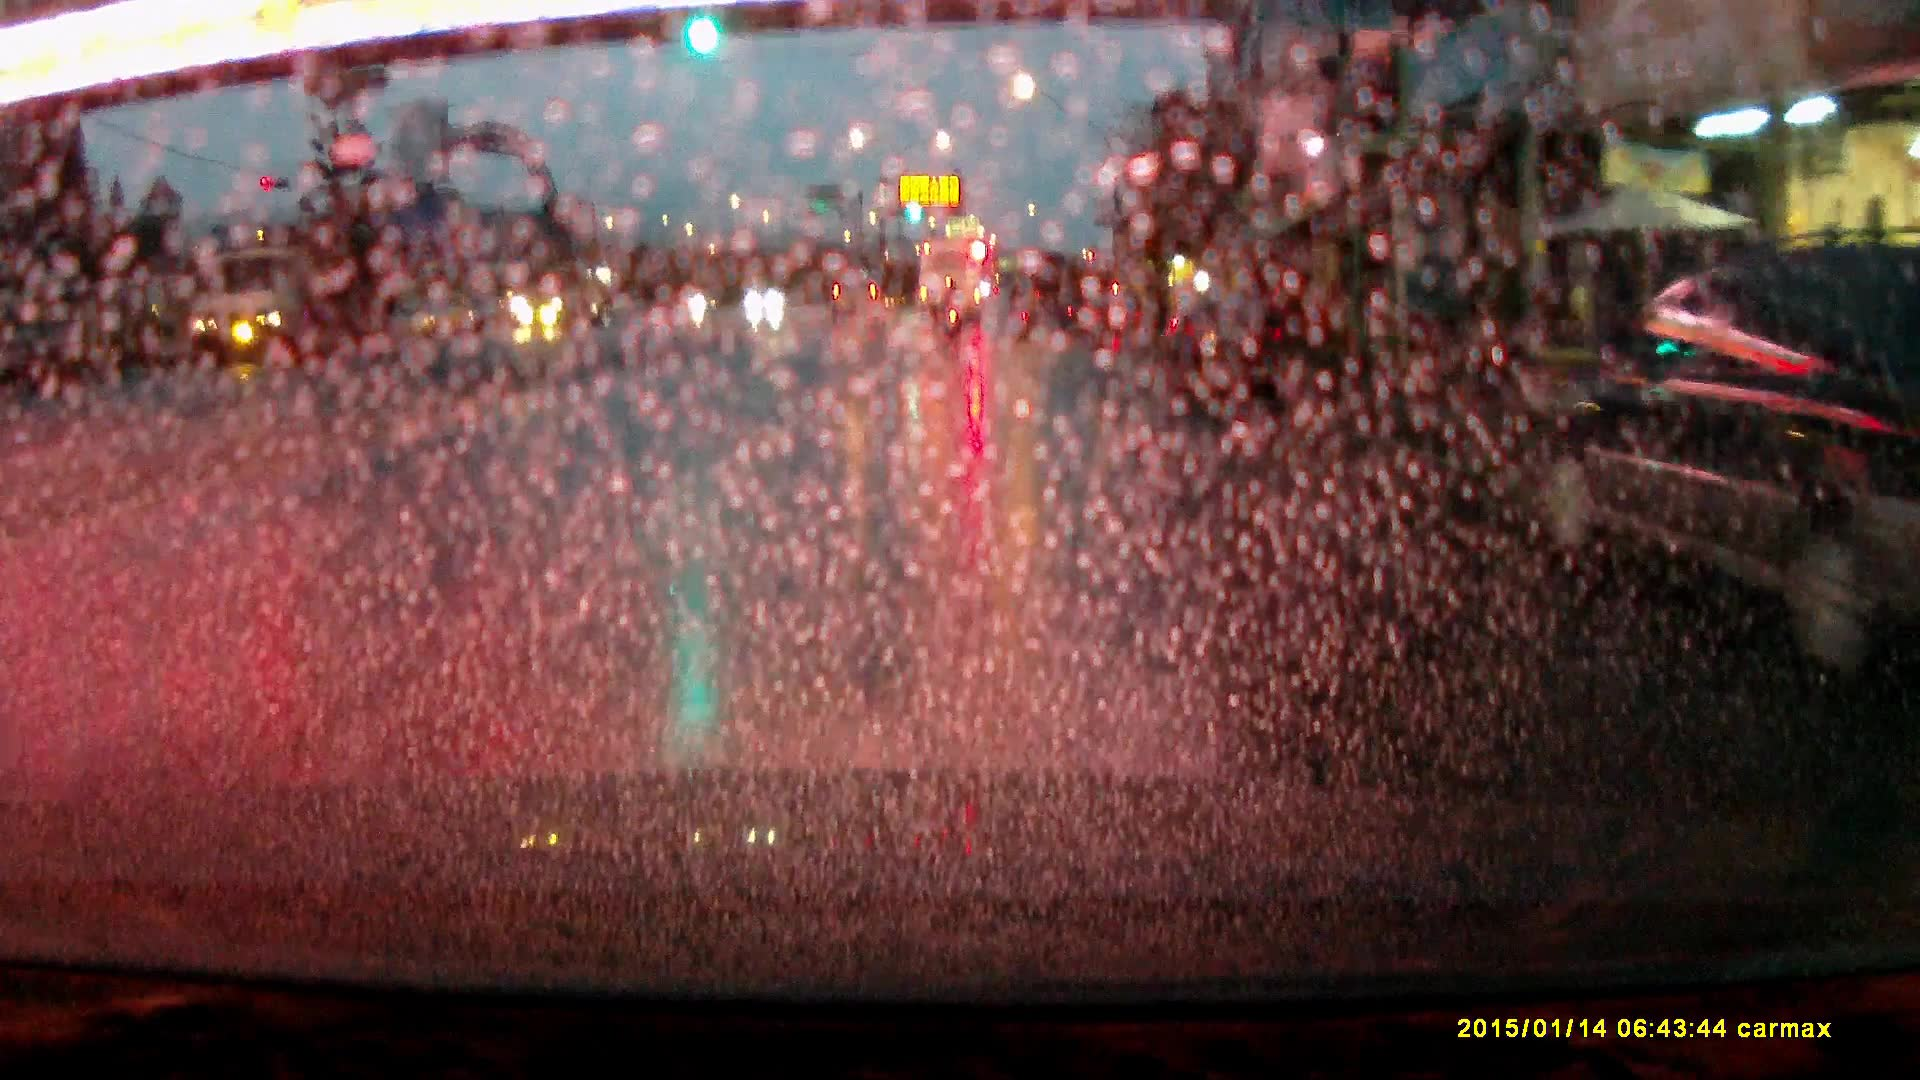rider: (944, 284, 968, 341)
vehicle: (1547, 273, 1920, 657), (185, 252, 379, 367), (1156, 309, 1283, 400), (515, 262, 606, 337), (919, 243, 984, 330), (1076, 299, 1143, 355), (828, 281, 885, 329), (749, 289, 788, 317)
